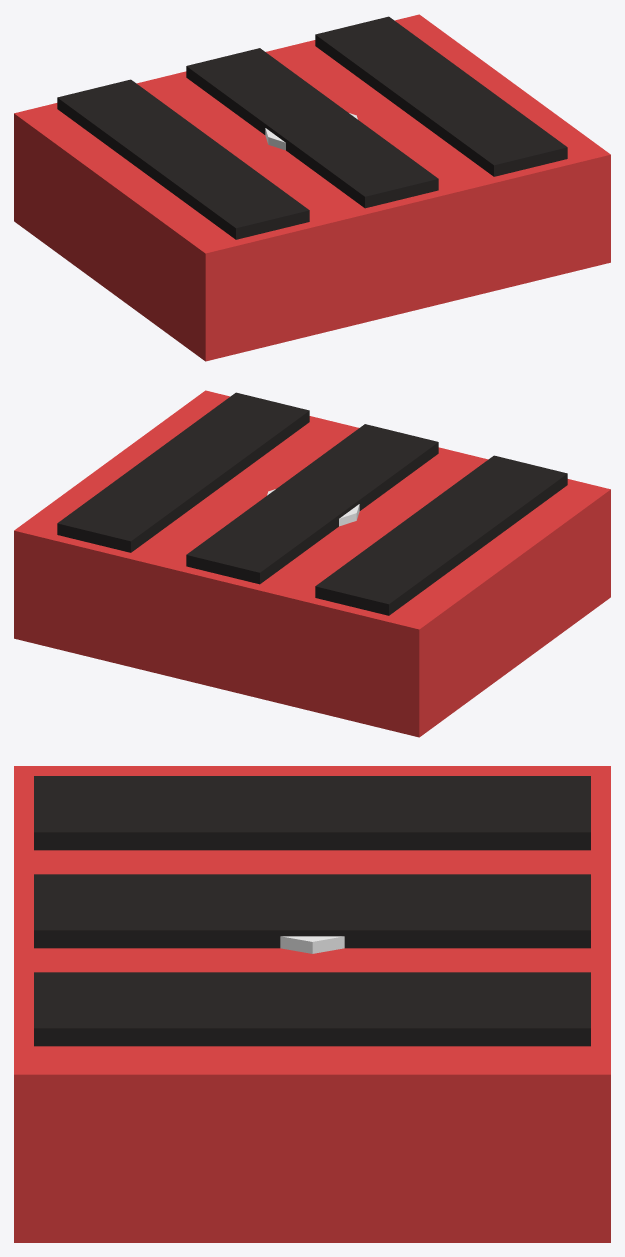
Rendered from steak.fbx.
3 views of the same model, one above another, from view 1: azimuth 30°, elevation 25°; view 2: azimuth 150°, elevation 25°; view 3: azimuth 270°, elevation 25° (orthographic). The views are drawn at different scales.
Parts seen in each view (by area): view 1: Steak; view 2: Steak; view 3: Steak.
Boxes of the visible parts, bbox=[...] form: Steak: bbox=[14, 14, 610, 361]; Steak: bbox=[14, 390, 610, 737]; Steak: bbox=[14, 766, 610, 1242].
Size of the model in its own units: 110 by 31 by 90.
